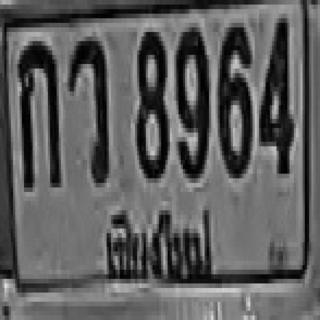A01: (17, 34, 59, 185)
A37: (67, 34, 107, 181)
N04: (259, 14, 292, 169)
N06: (218, 18, 250, 174)
N08: (135, 27, 166, 174)
N09: (174, 23, 207, 174)
P11: (99, 200, 223, 292)
